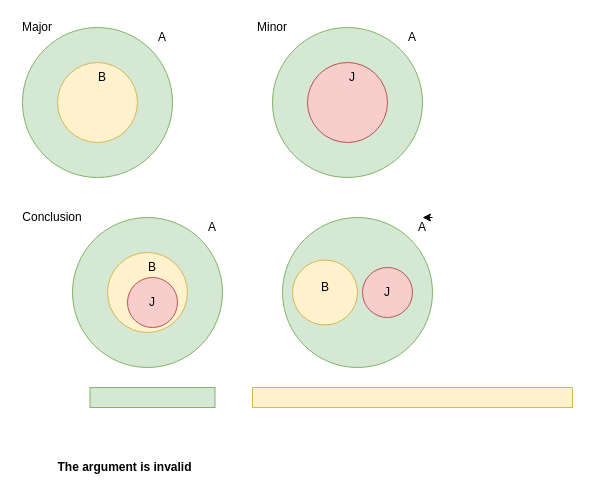
Some shapes in this 590 by 494 pixel diagram are drawn without their labels. Each missing label, with the centre of its shape:
One possible conclusion are contradicting for each other: the point at 412,397
Only conclusion is true: the point at 152,397
